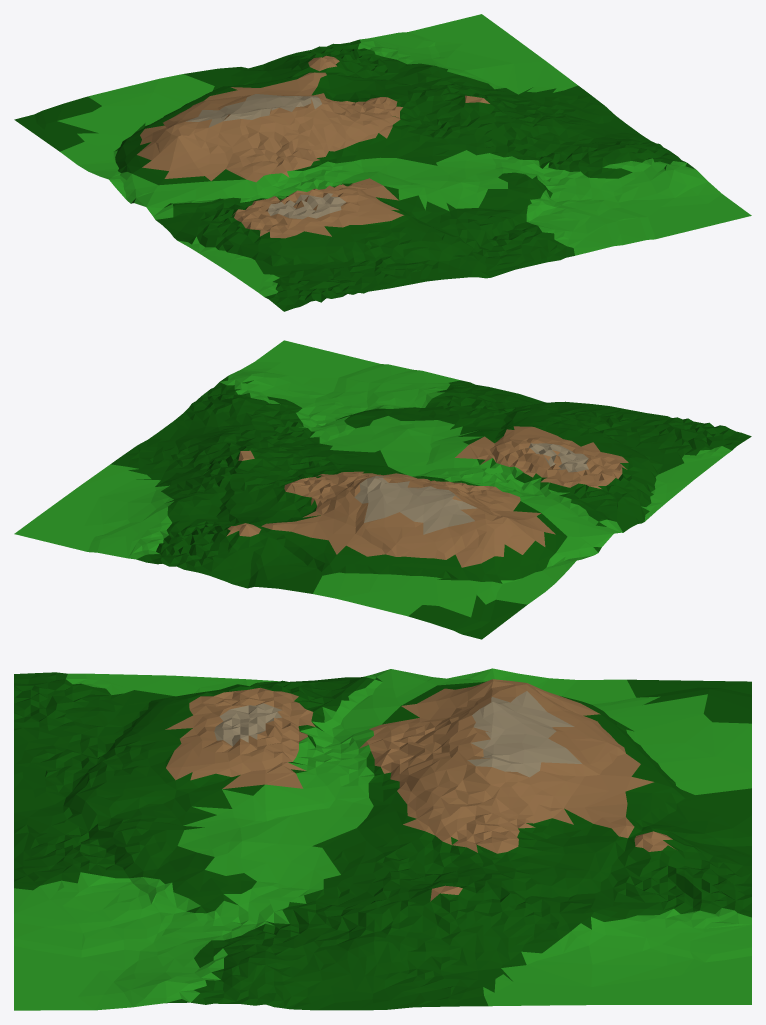
File: Urwald_Ground.fbx
3 views of the same model, one above another, from view 1: azimuth 30°, elevation 25°; view 2: azimuth 150°, elevation 25°; view 3: azimuth 270°, elevation 25° (orthographic). The views are drawn at different scales.
Visible parts, largest first — view 1: Plane.001; view 2: Plane.001; view 3: Plane.001.
Boxes of the visible parts, x1,y1,x2,y2 form: Plane.001: [14, 14, 751, 311]; Plane.001: [14, 340, 751, 639]; Plane.001: [14, 668, 751, 1010].
Bounding box in the file's own units: 54487 × 6386 × 54468.
